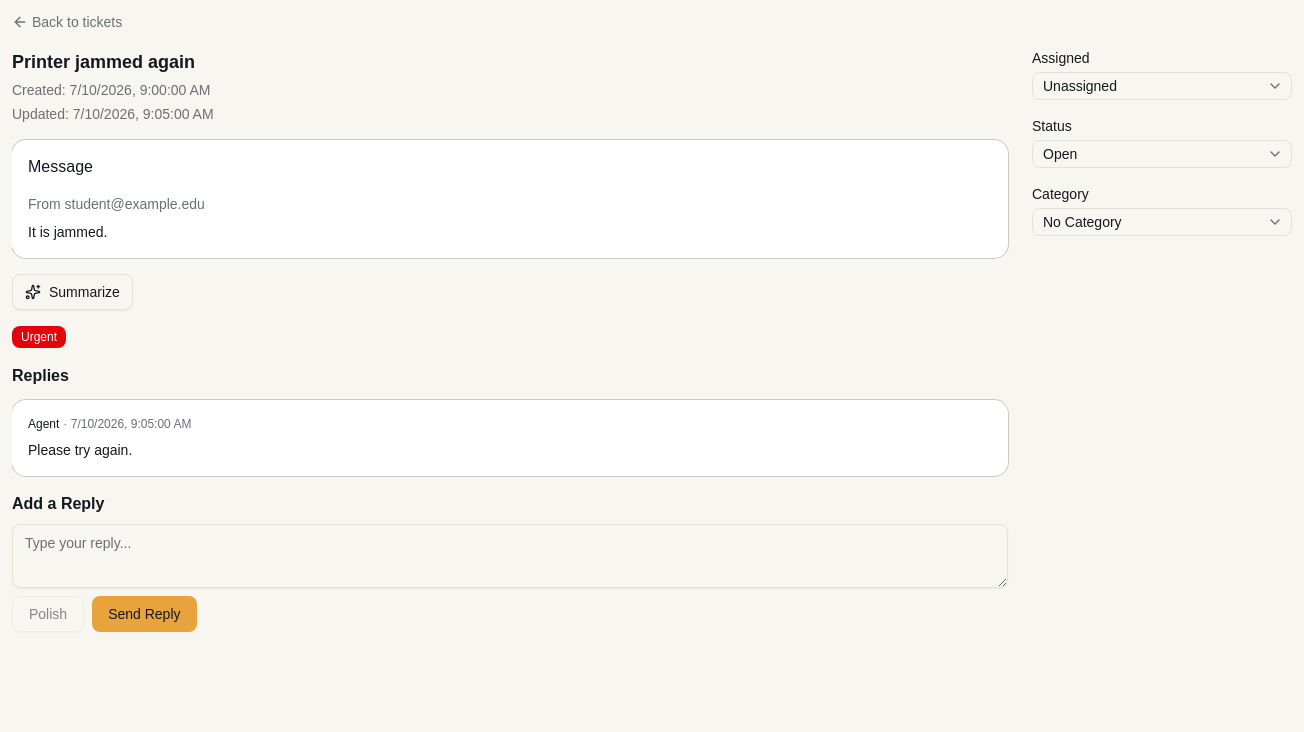
it: TicketDetailPage › assigns the ticket to the selected agent and refreshes Updated at
Click the dropdown named "assigned agent" at (1080, 86), box 1032,72 -> 1292,100
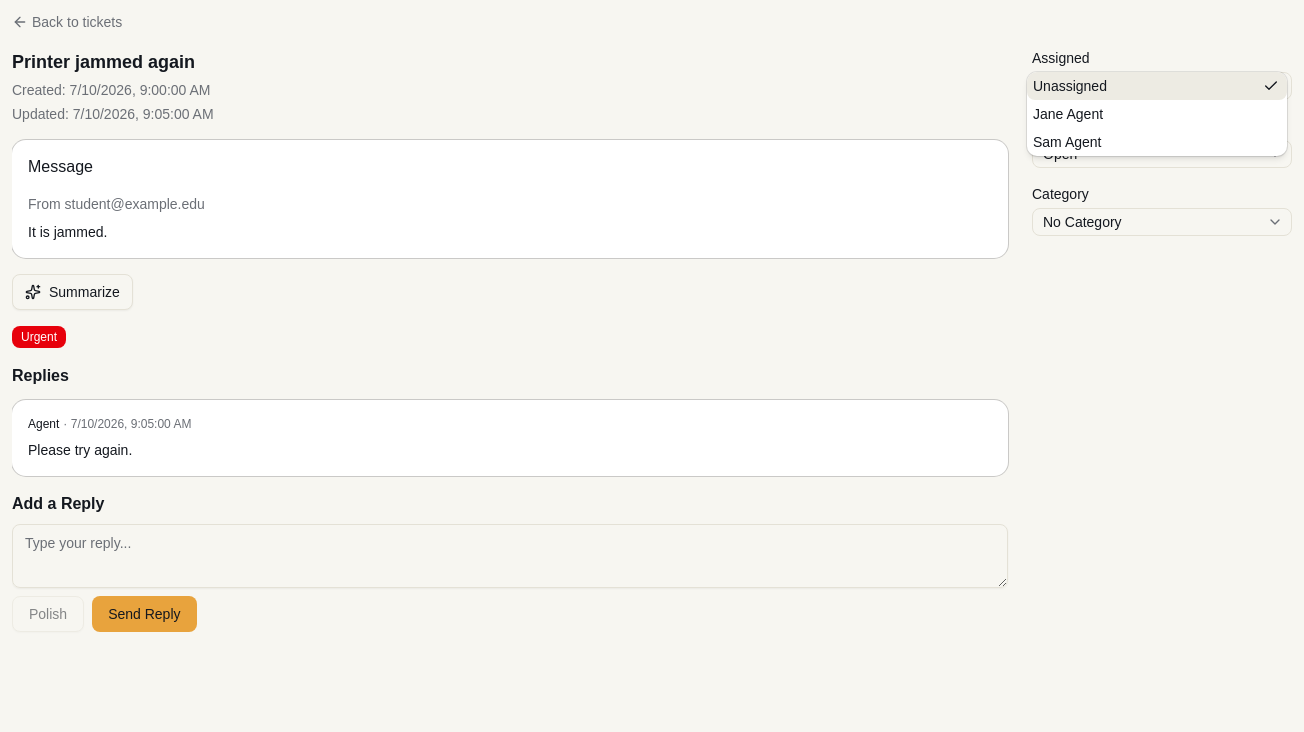
Click the option "Jane Agent" at (1068, 114), box 1033,106 -> 1103,122
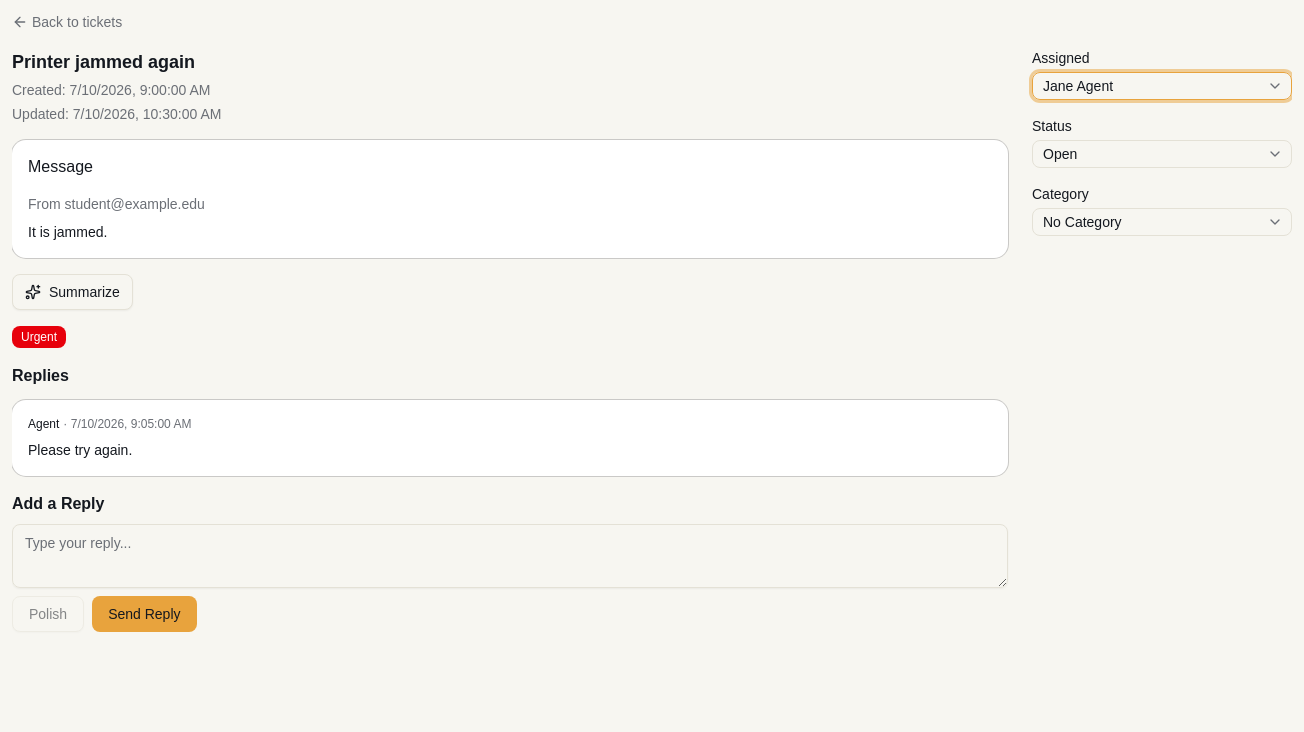
Result: the dropdown named "assigned agent" shows "Jane Agent" at 1032,72 -> 1292,100
